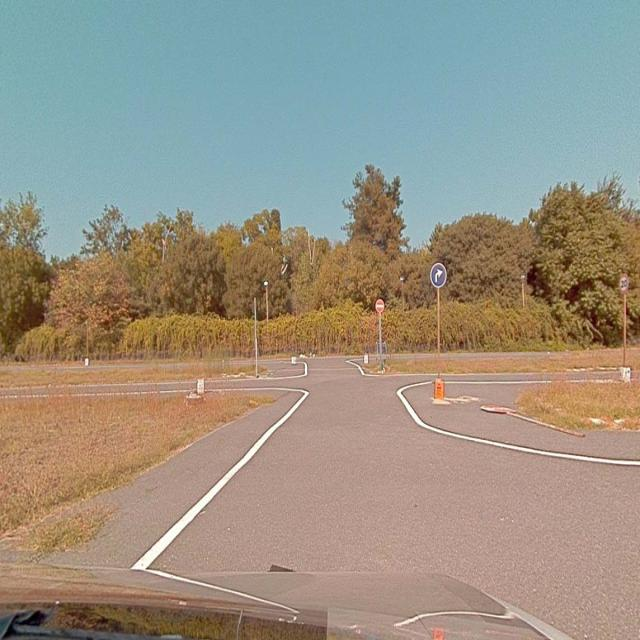20: (620, 274, 628, 292)
girisyok: (376, 299, 384, 313)
sag: (431, 262, 446, 286)
